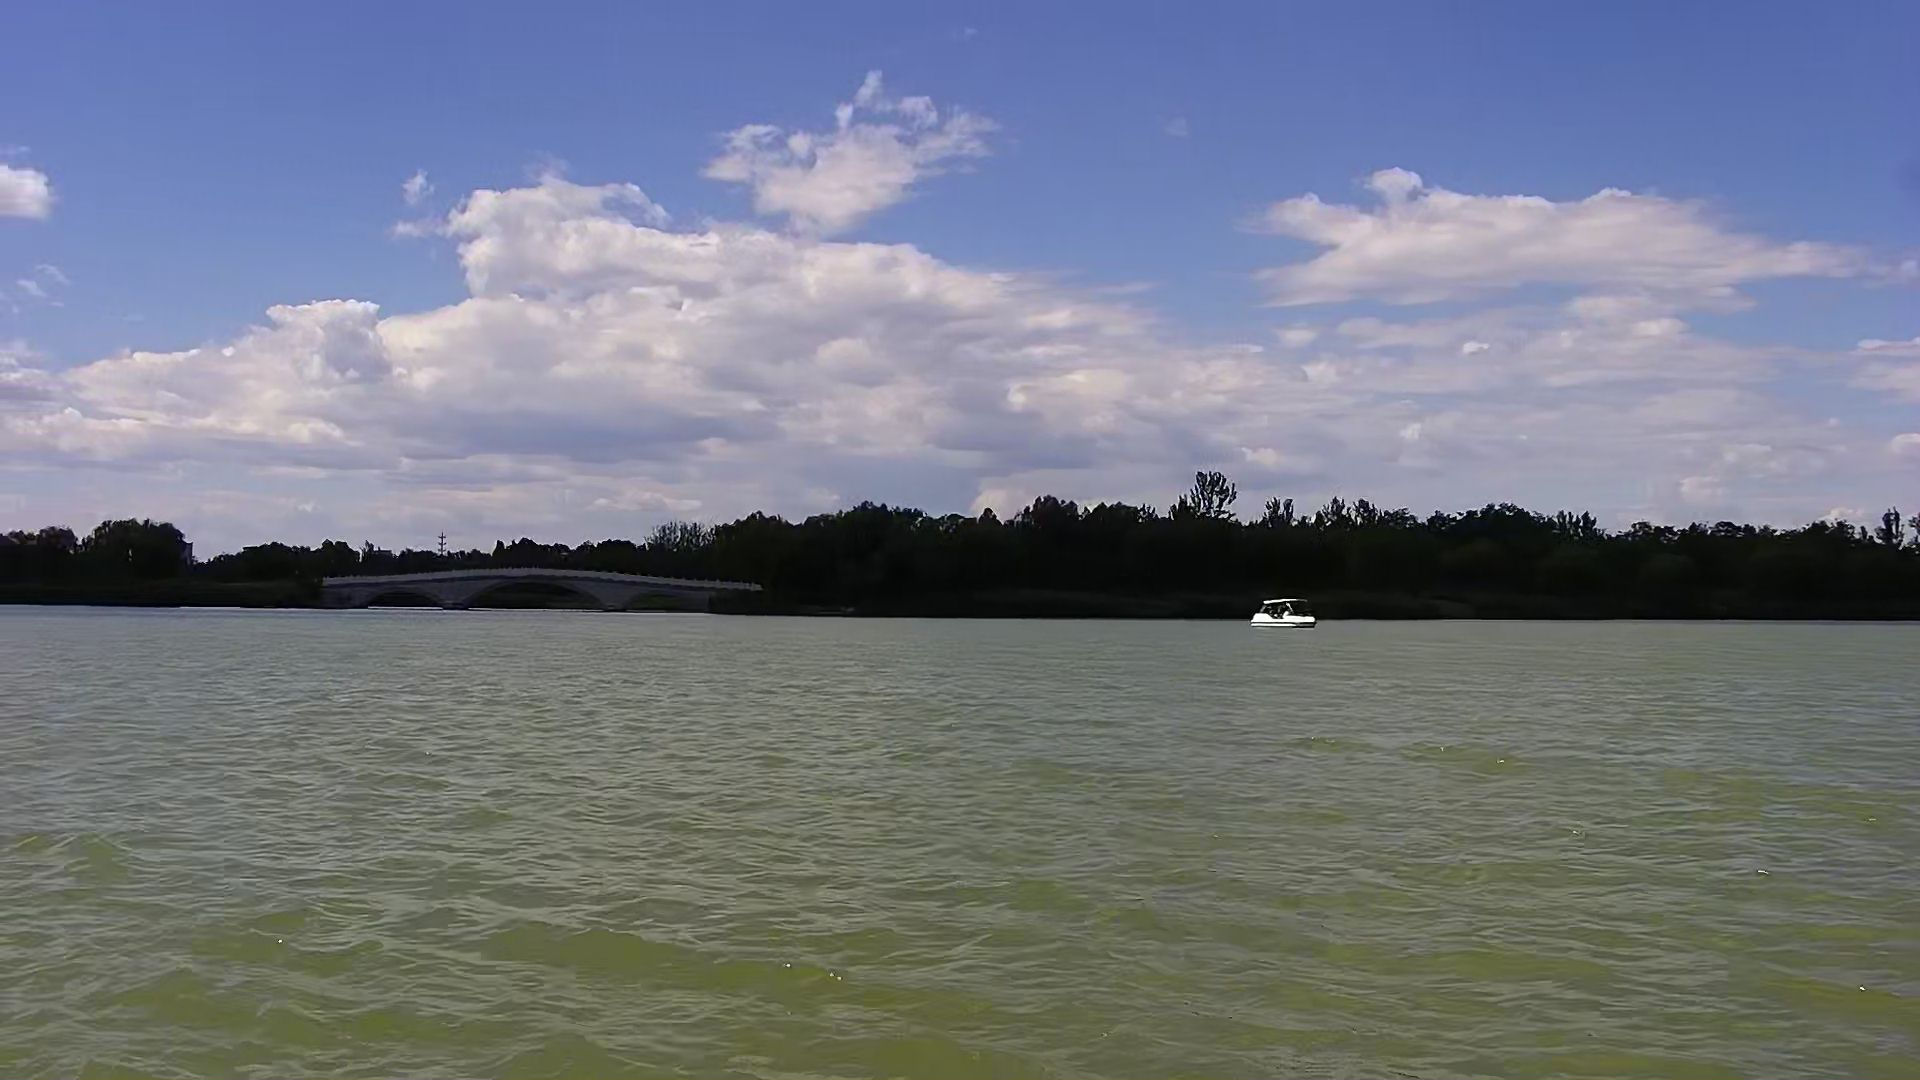boat: (1245, 593, 1316, 632)
bridge: (316, 556, 767, 626)
